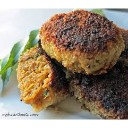cutlet: (43, 12, 123, 71), (65, 64, 128, 117), (17, 52, 61, 107)
